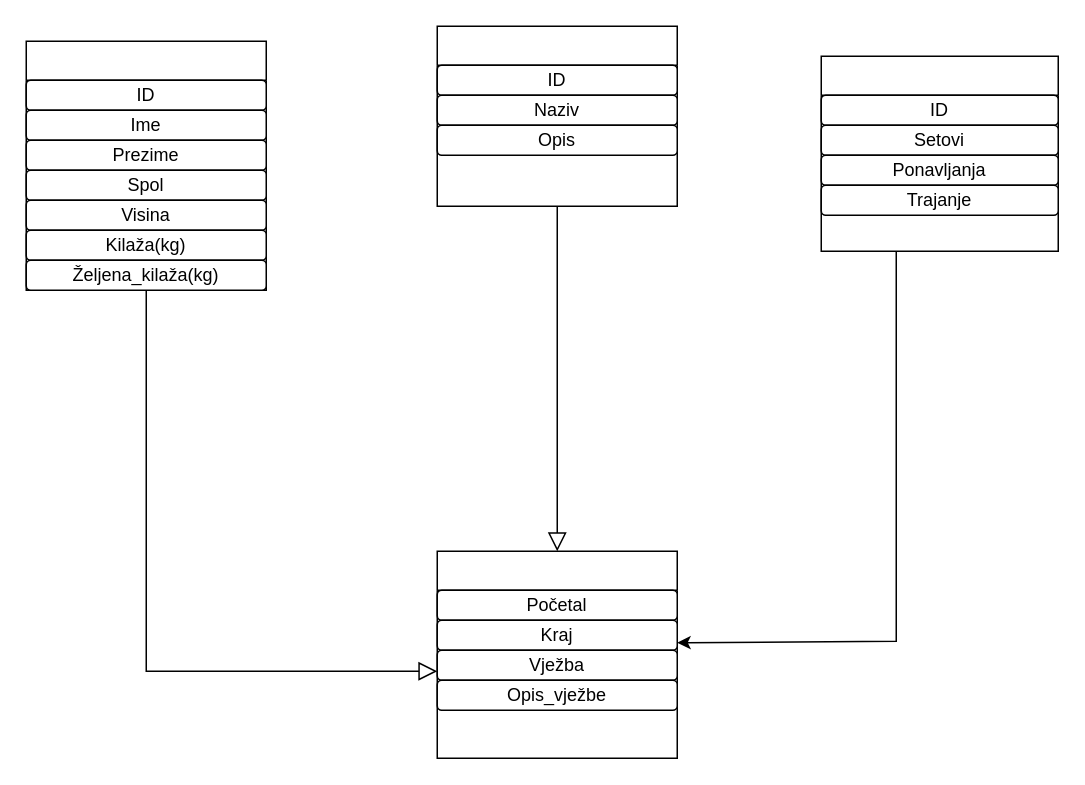
Image size: 1085x785. Some labels were removed from this diagram. The shapes that lost their labels are listed below. From the top down, each one's box as (x1, y1, x2, y2) in pixels, then its label:
(436, 25, 677, 206): Vježbe
(25, 40, 266, 290): Korisnici
(820, 55, 1058, 251): Detalji_vježbe
(436, 550, 677, 758): Plan_vježbanja
